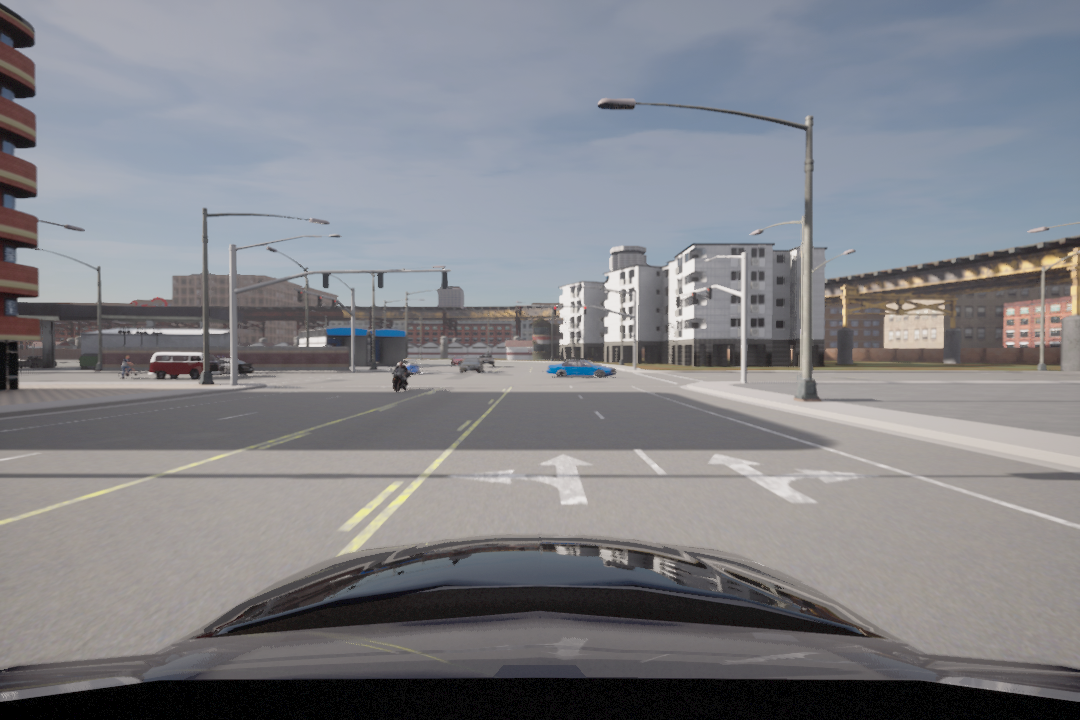RoadSign_forward_left: (453, 451, 597, 507)
RoadSign_forward_right: (708, 454, 874, 512)
